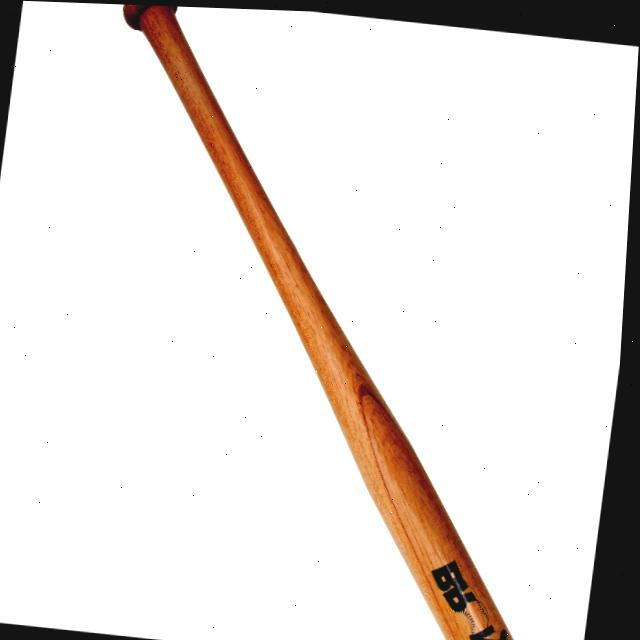baseball bat: (9, 1, 640, 640)
